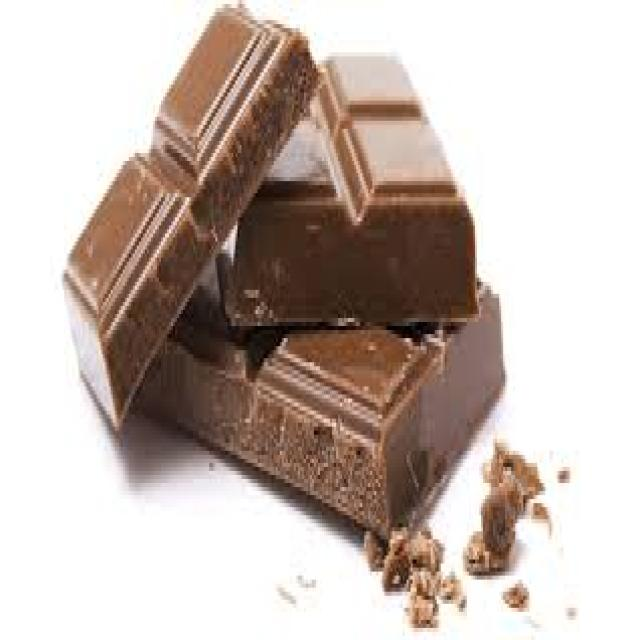Chocolate: (107, 252, 505, 545), (59, 0, 327, 433), (215, 47, 482, 327)
